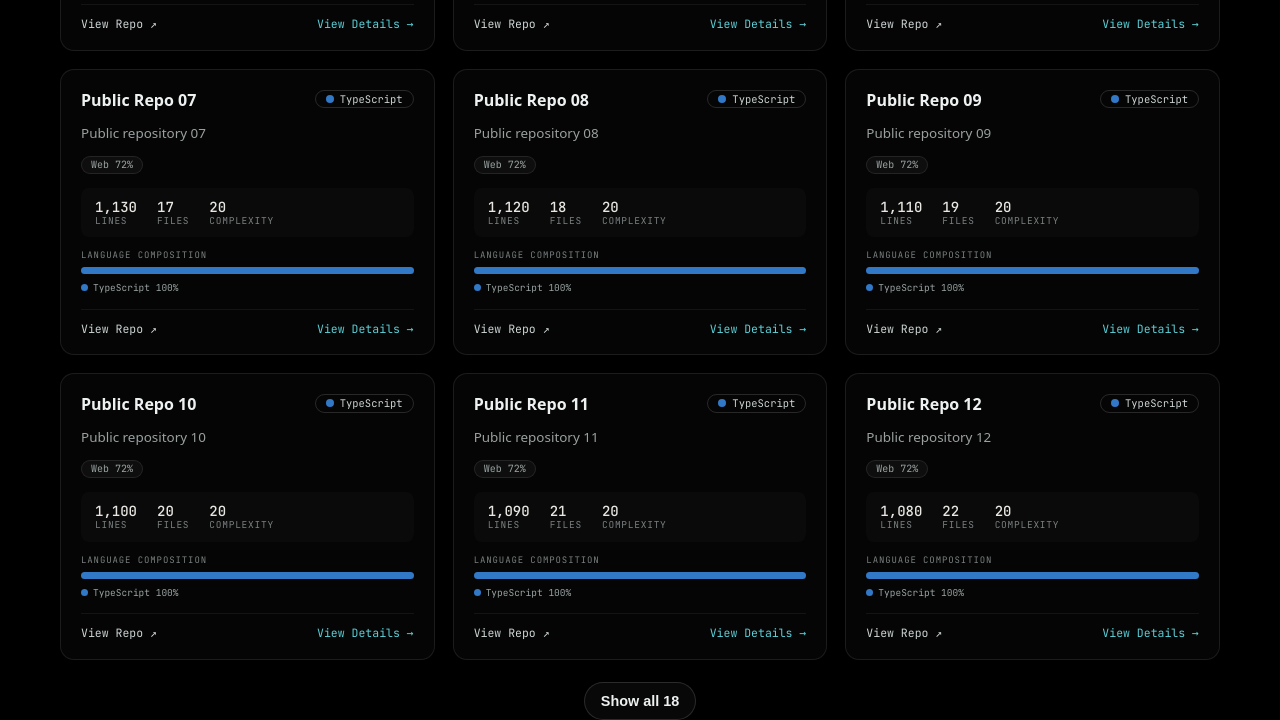
Scenario: Option B portfolio overview integration › defaults to Most Recent sort and reveals every project with Show all
What coordinates should you click on to do the following:
click the button "Show all 18"
I would click on:
 (640, 701)
Its box is [584,682,696,719].
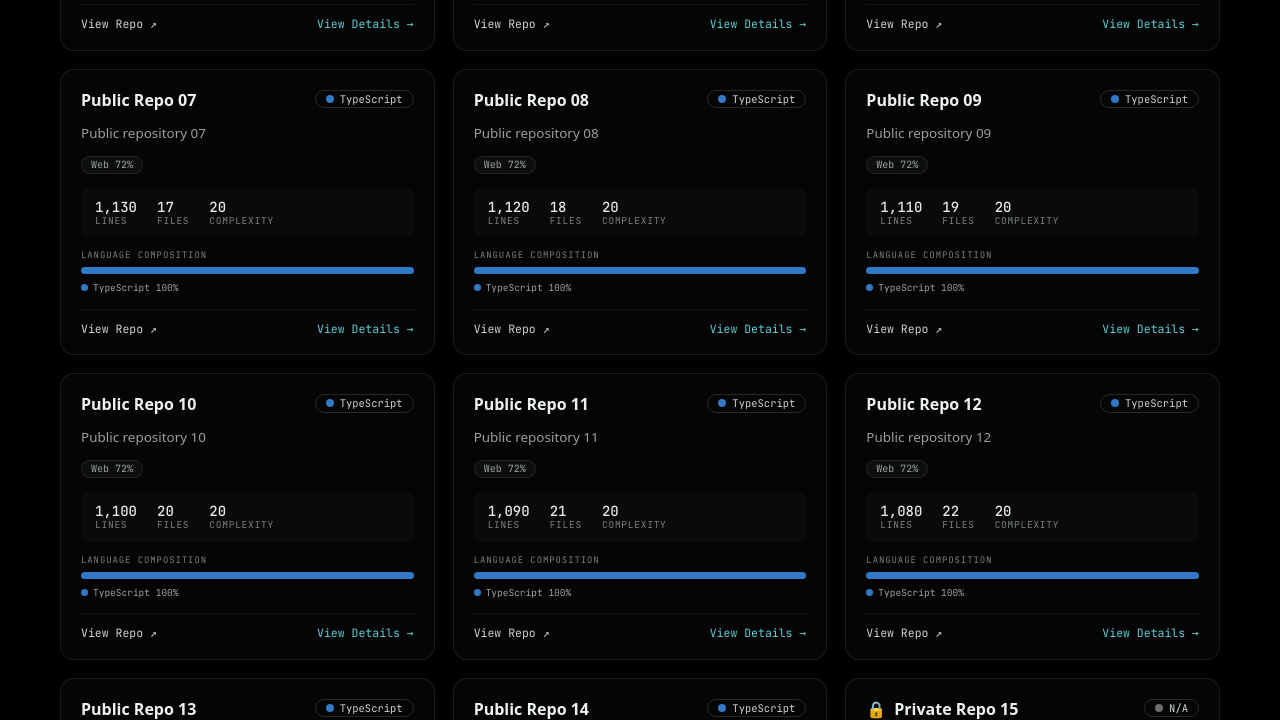
Now the button "Show all" is gone
